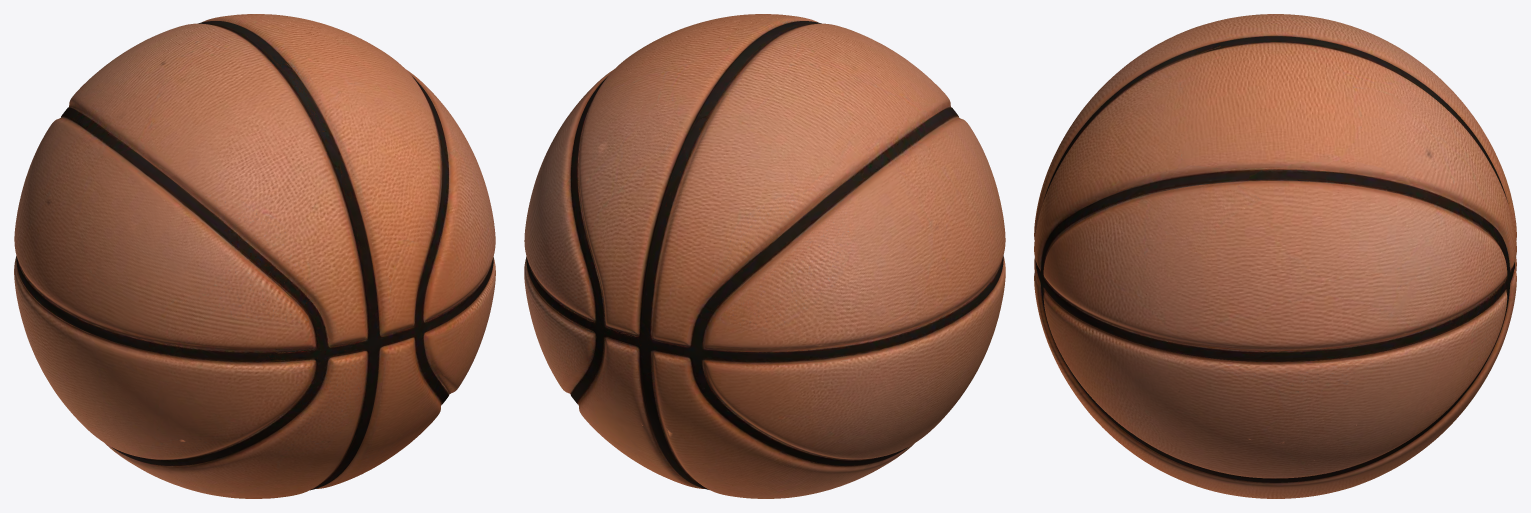
File: basketball-opt-mobile.glb
The picture shows the model from 3 angles, left to right: view 1: azimuth 30°, elevation 25°; view 2: azimuth 150°, elevation 25°; view 3: azimuth 270°, elevation 25°; orthographic projection.
Parts seen in each view (by area): view 1: node_0; view 2: node_0; view 3: node_0.
Boxes of the visible parts, x1,y1,x2,y2 form: node_0: (14,14,495,498); node_0: (524,14,1005,498); node_0: (1034,14,1516,498).
Bounding box in the file's own units: 1.18 × 1.19 × 1.19.
Materials: 1 (1 with a texture image).
